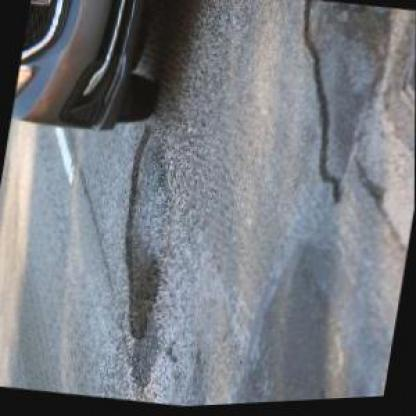pothole: (100, 120, 188, 342)
